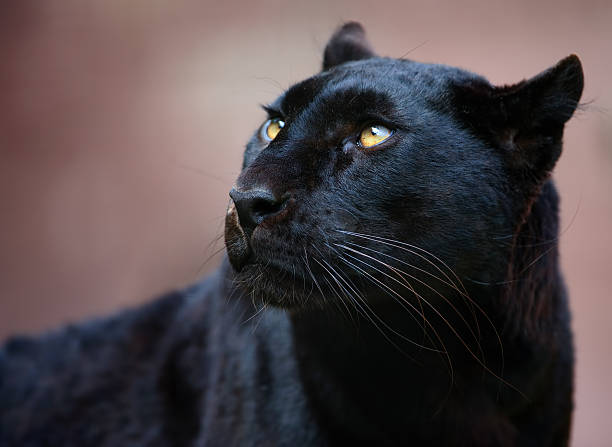panther: (181, 10, 603, 355)
